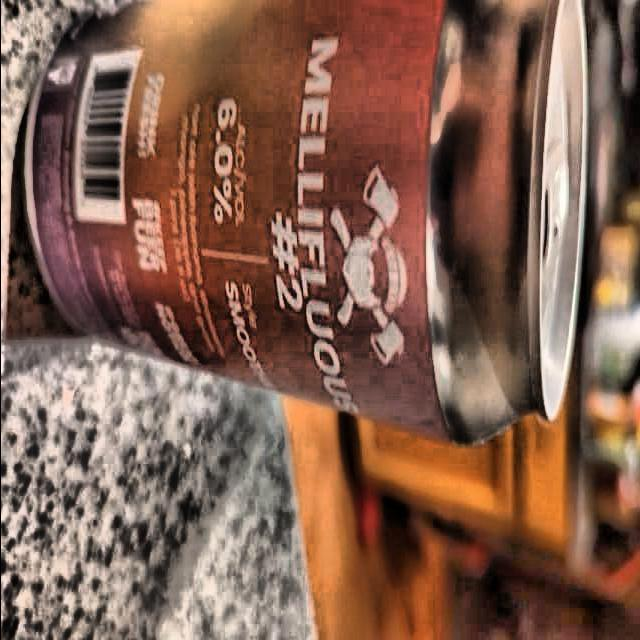litter: (12, 0, 602, 450)
